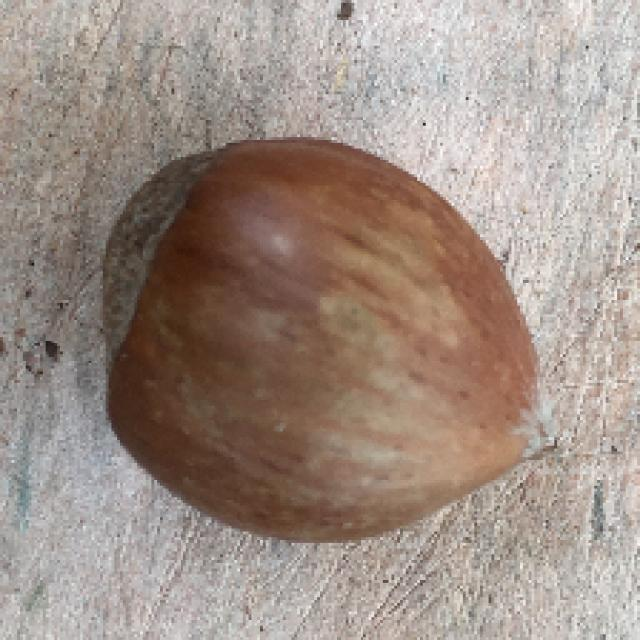damagedHazelnut: (86, 123, 573, 549)
